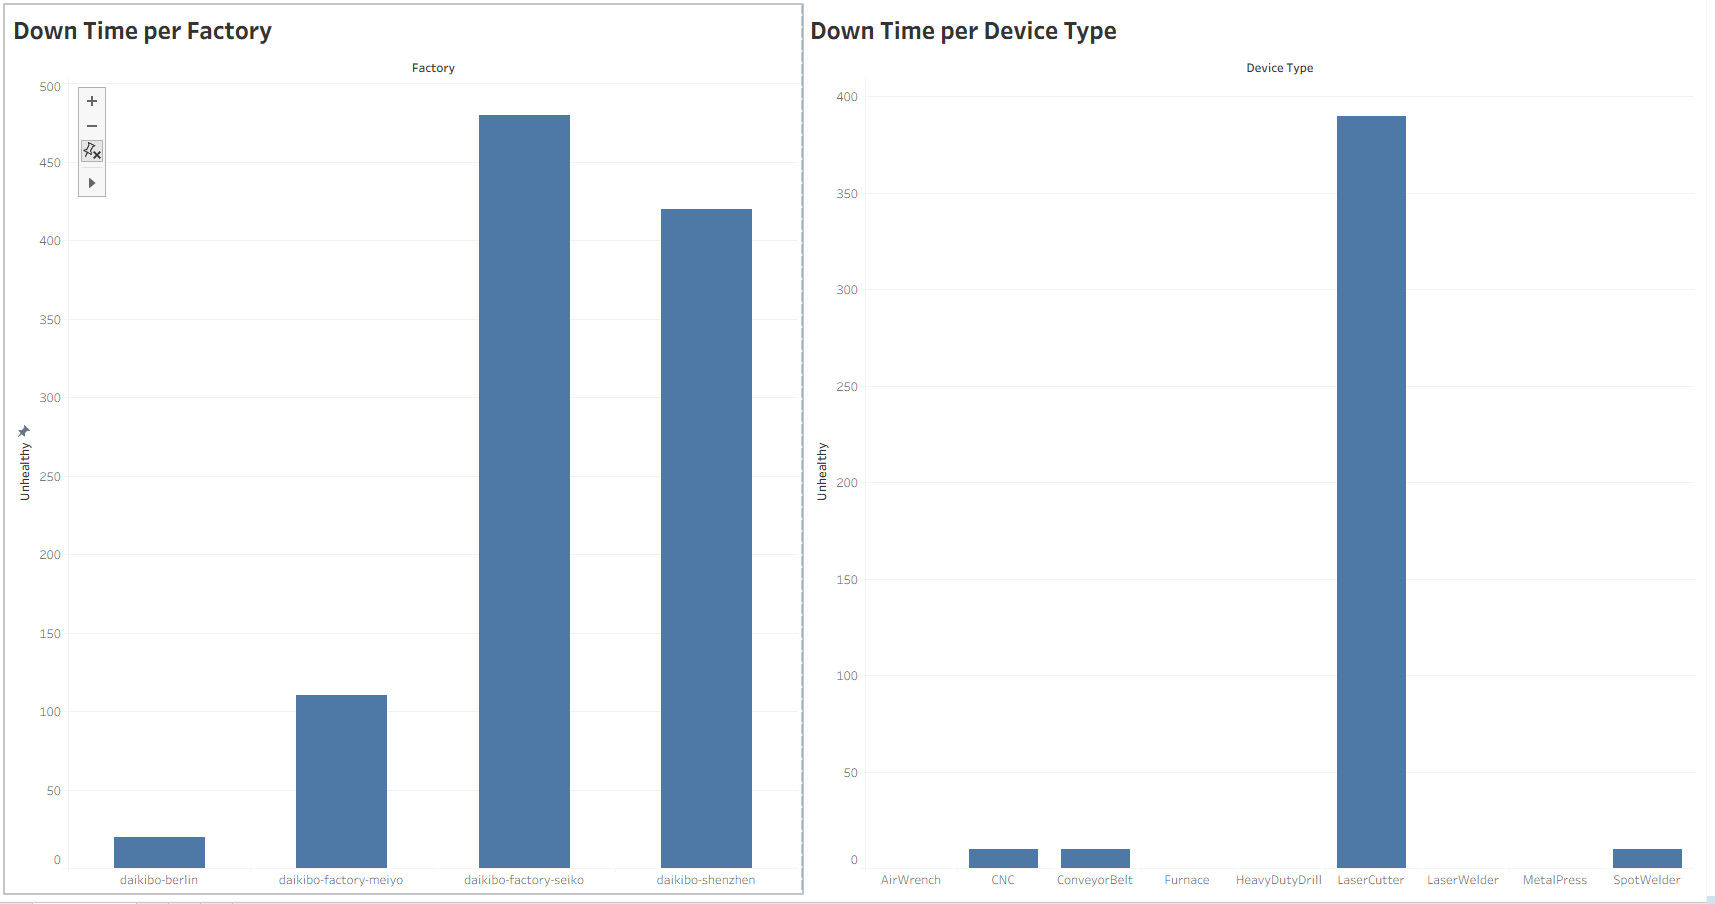

The dashboard page shown, as its layout file describes it:
{"tool":"tableau","page":{"name":"Dashboard 1","canvas":[650,860],"ordinal":0},"visuals":[{"type":"worksheet","title":"Sheet 1","mark":"Automatic","rows":["Calculation_0531399220822016"],"cols":["factory"],"box":[8,8,634,422]},{"type":"worksheet","title":"Sheet 2","mark":"Automatic","rows":["Calculation_0531399220822016"],"cols":["deviceType"],"box":[8,430,634,422]}]}

Visuals, with their boxes on the page's 650x860 design canvas (x1, y1, x2, y2). These are canvas units, not pixel positions in the 1715x904 screenshot, which may show the page scaled, cropped or inside an application window:
"Sheet 1" worksheet: [left=8, top=8, right=642, bottom=430]
"Sheet 2" worksheet: [left=8, top=430, right=642, bottom=852]
